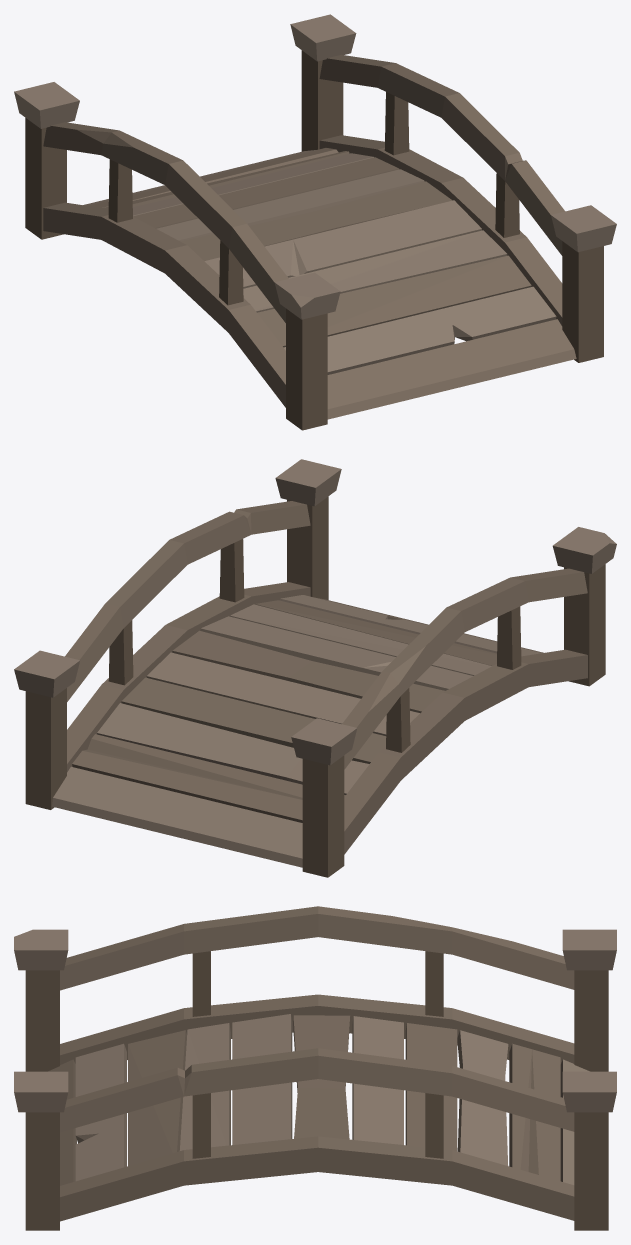
File: bridge.glb
3 renders of one model, top to bottom at view 1: azimuth 30°, elevation 25°; view 2: azimuth 150°, elevation 25°; view 3: azimuth 270°, elevation 25°, orthographic. The views are drawn at different scales.
Visible parts, largest first — view 1: bridge; view 2: bridge; view 3: bridge.
Part boxes in pixels (x1,y1,x2,y2): bridge: [14, 14, 616, 430]; bridge: [14, 459, 616, 877]; bridge: [14, 906, 616, 1230].
Bounding box in the file's own units: 1.15 × 0.5673 × 1.8.
Materials: 1 (1 with a texture image).
